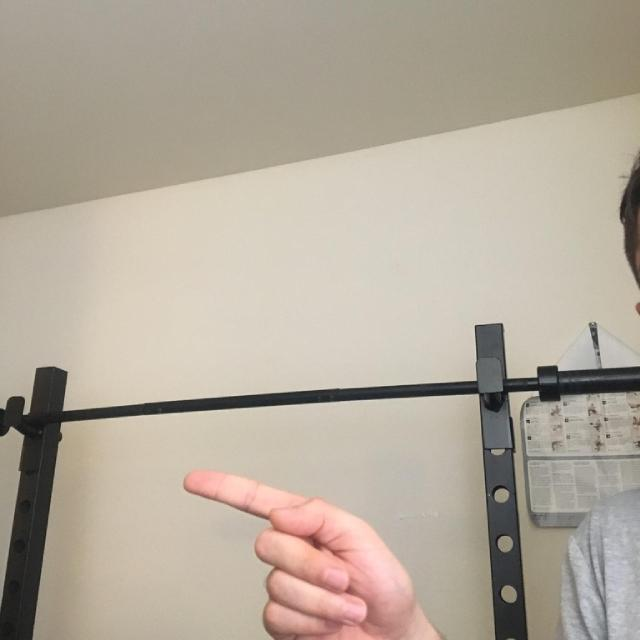G: (152, 365, 443, 640)
